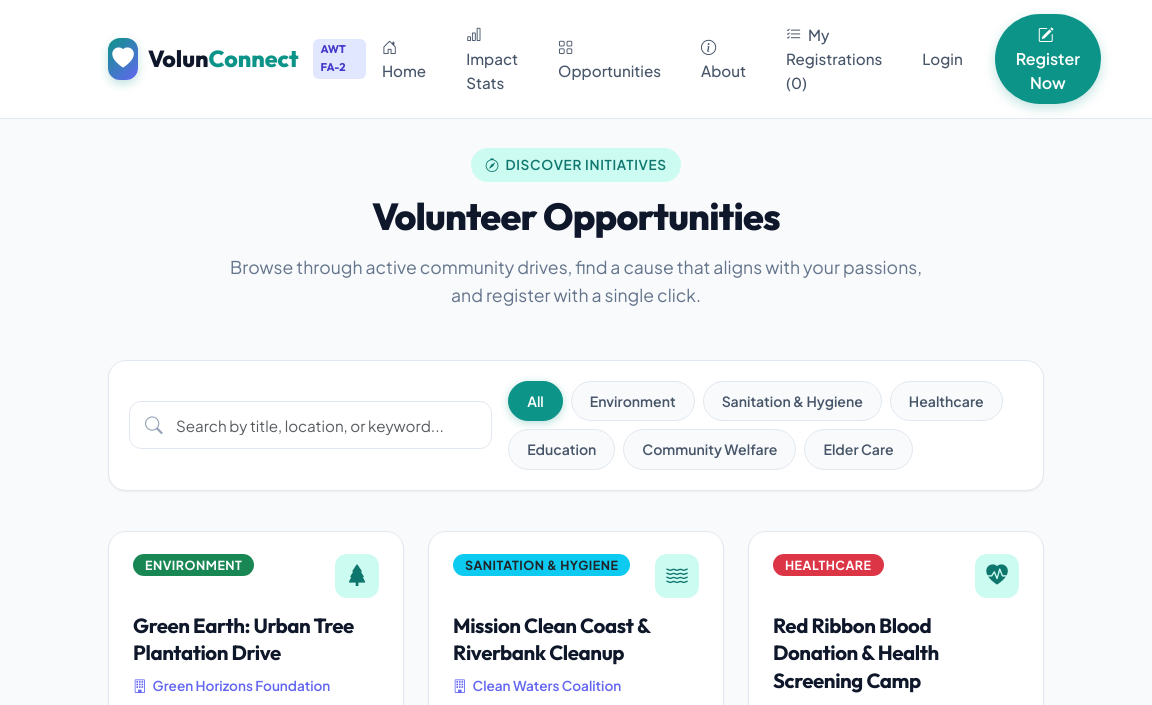
Test case: home page › lists all drives, filters by category and search
(page scrolled)
Click the button "Healthcare". click: (946, 401)
box: [890, 381, 1003, 421]
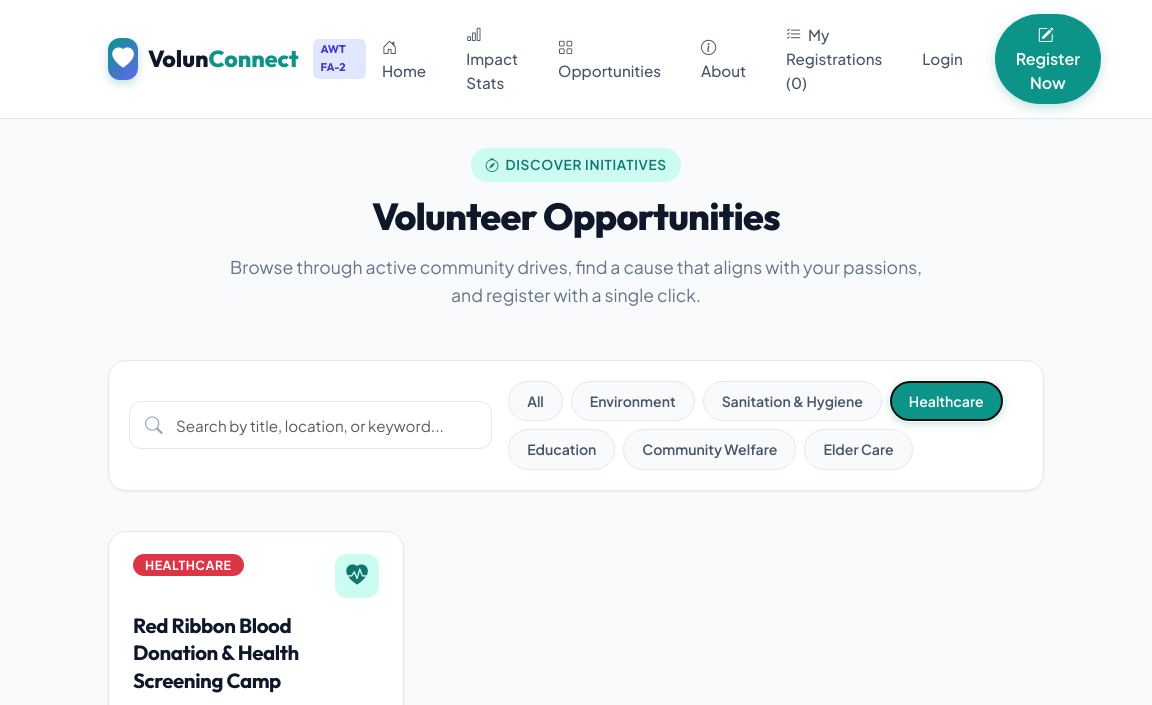
Click the button "All". click: (536, 401)
box: [508, 381, 563, 421]
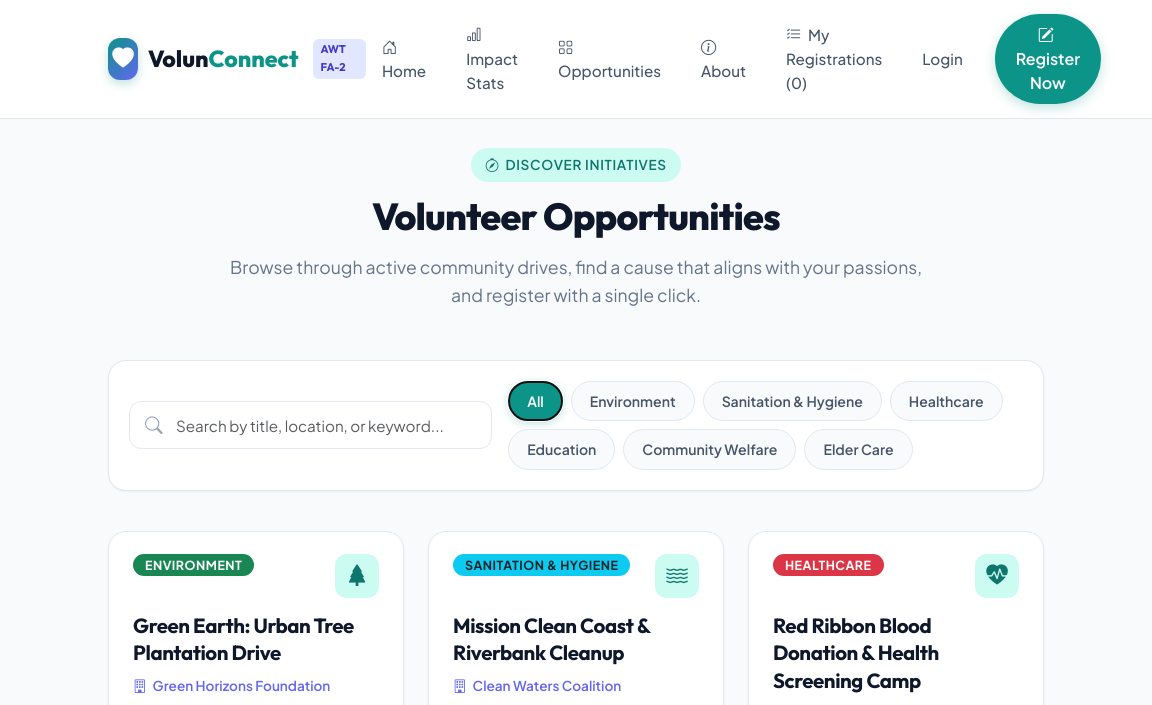
Type "zzzz" into the field named "search volunteer". click: (311, 425)
box: [129, 401, 492, 449]
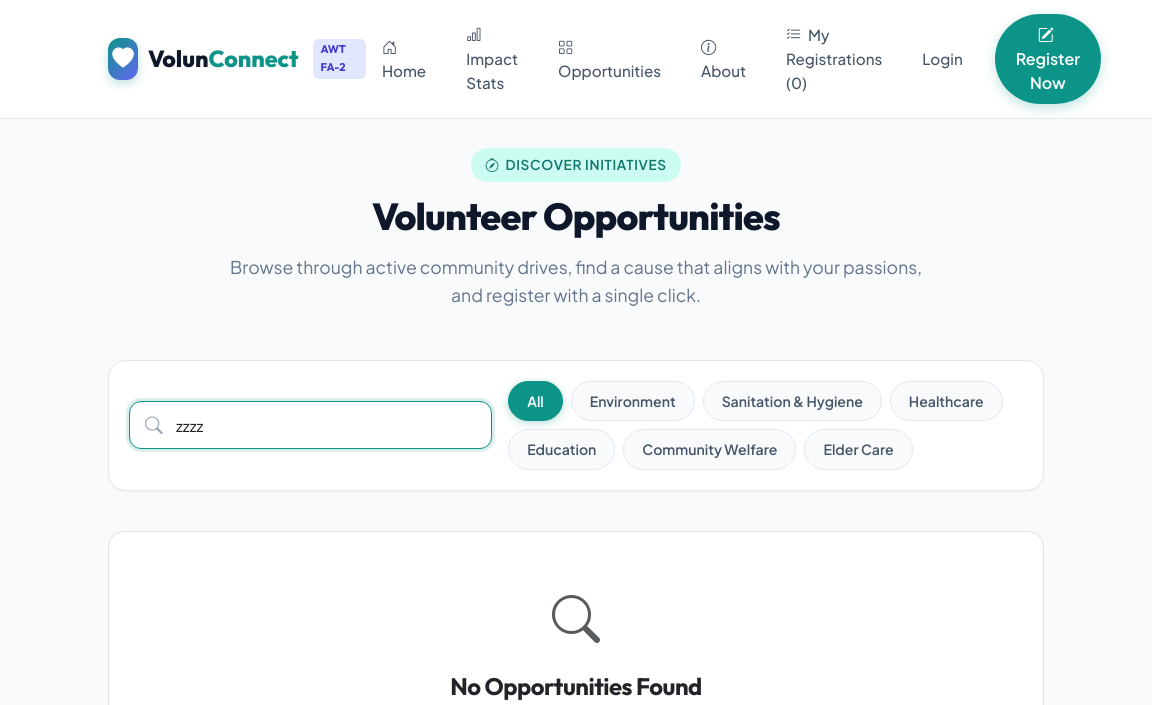
Now the heading "No Opportunities Found" is shown, box [450, 671, 702, 701]
